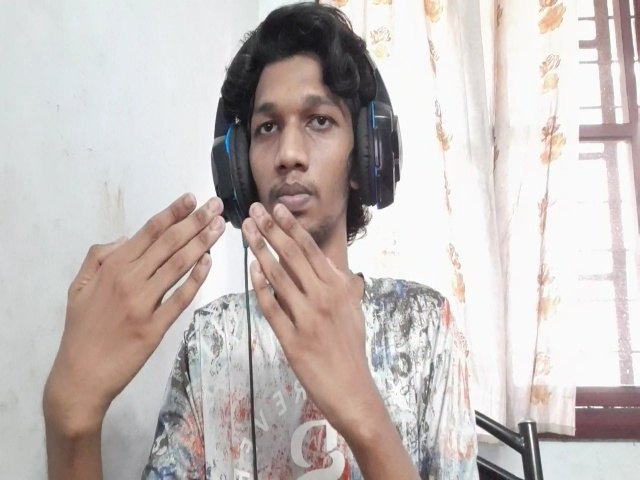ThankYou: (55, 193, 366, 370)
